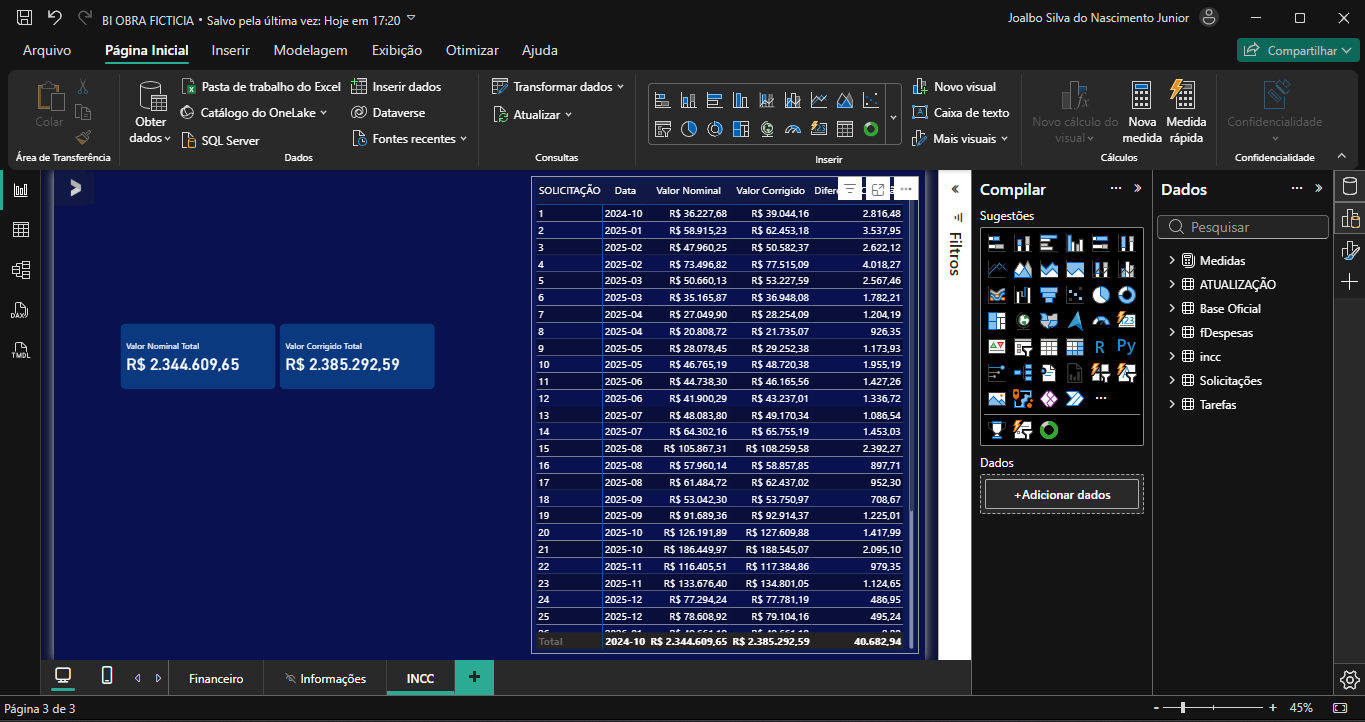

Layout of this report page (visuals, bound fields, positions):
{"tool":"powerbi","page":{"name":"INCC","canvas":[1920,1080],"ordinal":2},"visuals":[{"type":"shape","box":[0,0,70.5,79.3],"z":0},{"type":"image","box":[0,0,95.9,79.6],"z":2000},{"type":"pivotTable","fields":{"Rows":["Solicitações.SOLICITAÇÃO"],"Values":["Min(Solicitações.MES)","incc.Valor Nominal Total","incc.Valor Corrigido Total","incc.Diferenca Correcao"]},"box":[1113.1,13.2,793.5,1053.6],"z":4000},{"type":"cardVisual","fields":{"Data":["incc.Valor Nominal Total","incc.Valor Corrigido Total"]},"box":[141.1,332.8,705.3,156.5],"z":5001}]}

Visuals, with their boxes on the page's 1920x1080 design canvas (x1, y1, x2, y2). These are canvas units, not pixel positions in the 1365x722 screenshot, which may show the page scaled, cropped or inside an application window:
shape: l=0, t=0, r=70, b=79
image: l=0, t=0, r=96, b=80
pivotTable - Solicitações.SOLICITAÇÃO x Min(Solicitações.MES): l=1113, t=13, r=1907, b=1067
cardVisual - incc.Valor Nominal Total x incc.Valor Corrigido Total: l=141, t=333, r=846, b=489
